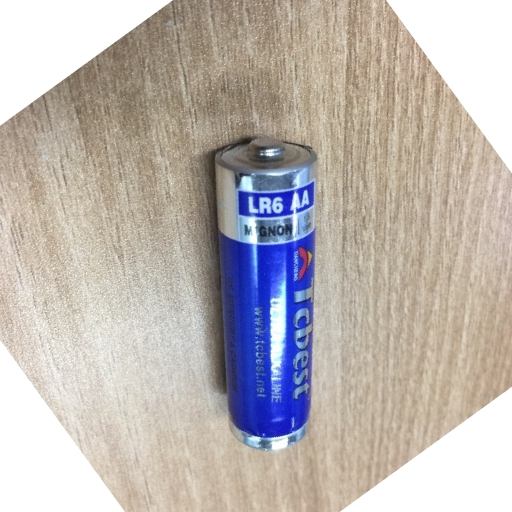Battery_0: (209, 127, 322, 459)
